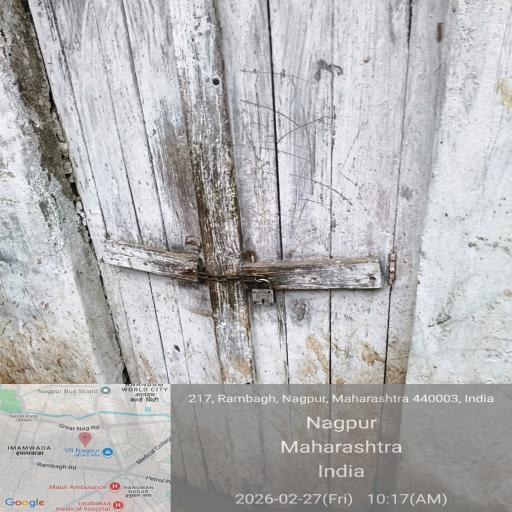dirty_floor: (64, 54, 456, 438)
